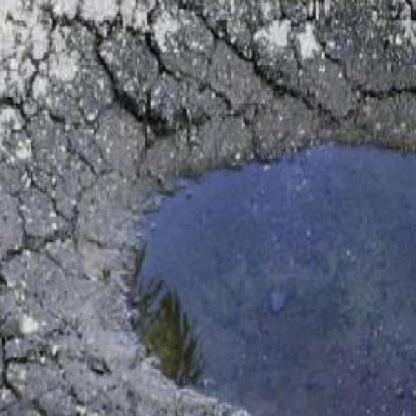pothole: (24, 56, 416, 416)
